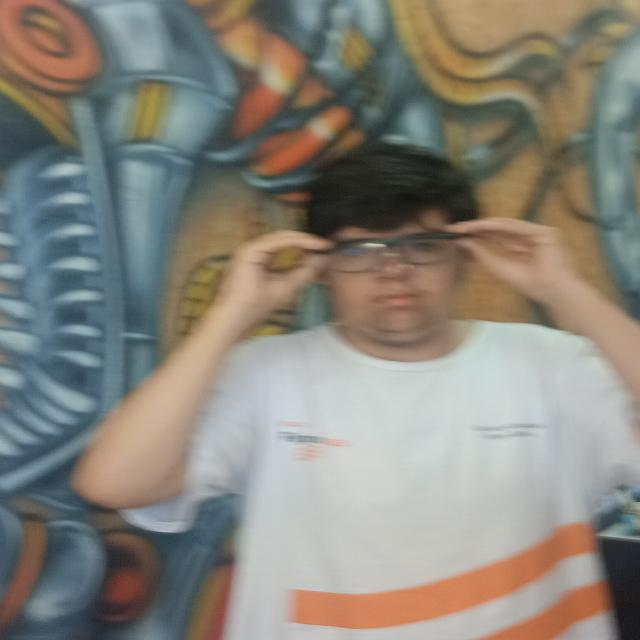oculos-epi: (322, 231, 460, 277)
